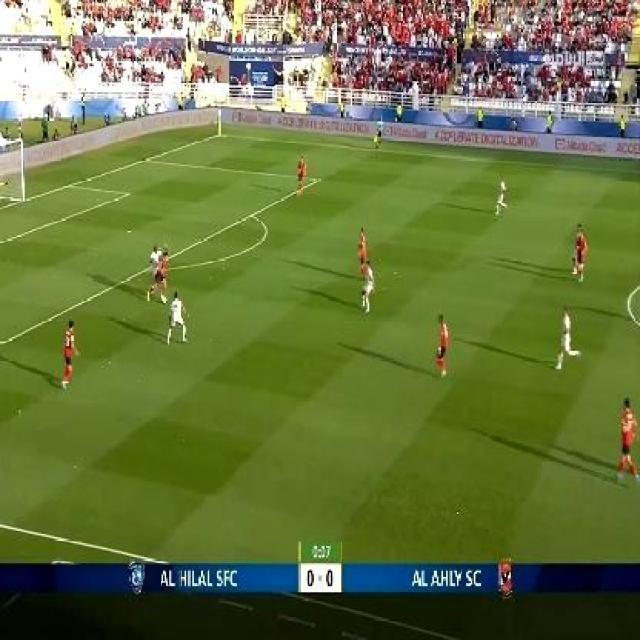bigarea_top_inner: (309, 171, 323, 186)
bigarea_top_outter: (138, 152, 151, 166)
corner: (210, 128, 224, 140)
smallarea_top_inner: (120, 186, 132, 200)
smallarea_top_outter: (61, 177, 76, 192)
top_arc_area_intersection: (243, 204, 259, 222)
